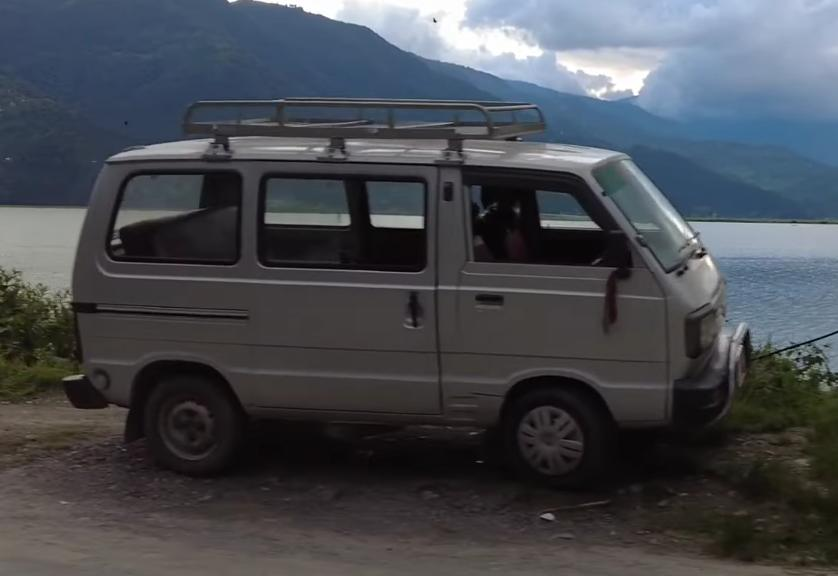van: (46, 78, 760, 495)
